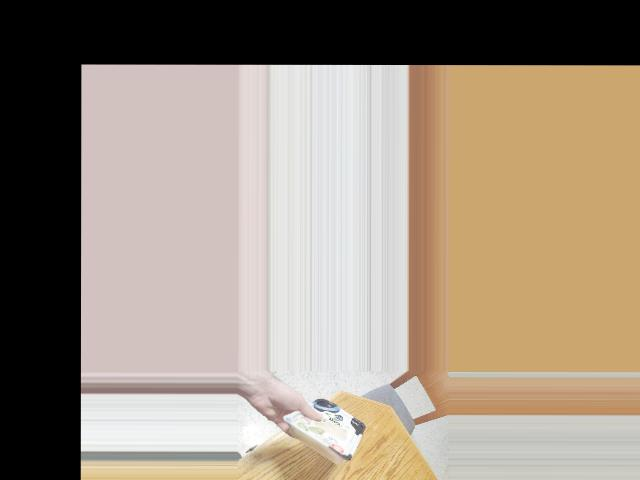cheese: (289, 396, 370, 477)
